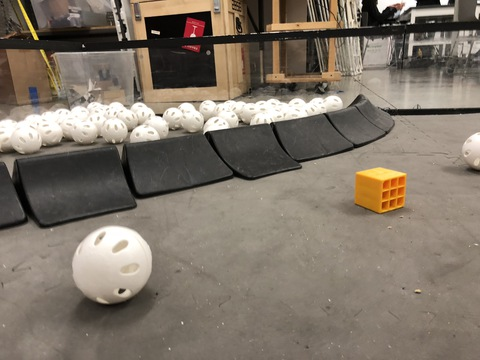ball: (57, 225, 171, 307), (458, 126, 480, 174)
block: (342, 162, 419, 226)
